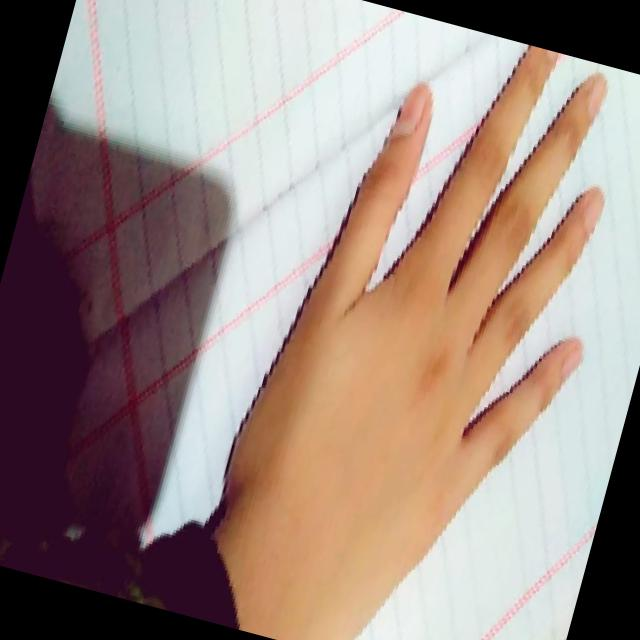Nail: (390, 85, 425, 137), (587, 76, 605, 117), (562, 341, 581, 379), (584, 196, 603, 232), (544, 49, 558, 59)
